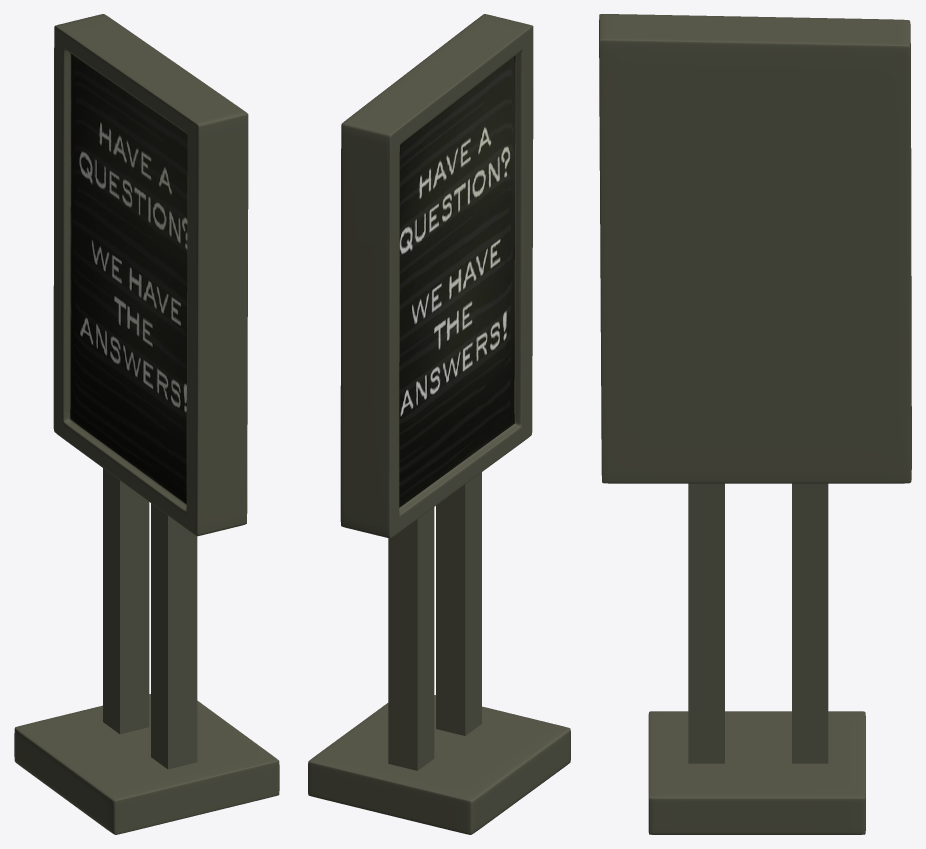
The model's file is librarys_answers_sign.glb.
3 renders of one model, left to right at view 1: azimuth 30°, elevation 25°; view 2: azimuth 150°, elevation 25°; view 3: azimuth 270°, elevation 25°, orthographic. The views are drawn at different scales.
Parts seen in each view (by area): view 1: Cube_5, Cube.003_8, Cube.002_7, Cube.001_6; view 2: Cube_5, Cube.003_8, Cube.001_6, Cube.002_7; view 3: Cube_5, Cube.003_8, Cube.002_7, Cube.001_6.
Part boxes in pixels (<box>): Cube_5: <box>53,14,248,536</box>; Cube.003_8: <box>14,694,279,834</box>; Cube.002_7: <box>151,503,197,769</box>; Cube.001_6: <box>103,468,149,734</box>; Cube_5: <box>340,14,533,538</box>; Cube.003_8: <box>308,695,570,834</box>; Cube.001_6: <box>388,507,434,770</box>; Cube.002_7: <box>436,472,481,735</box>; Cube_5: <box>599,14,911,483</box>; Cube.003_8: <box>648,711,865,834</box>; Cube.002_7: <box>688,483,724,763</box>; Cube.001_6: <box>792,483,828,763</box>.
Bounding box in the file's own units: 2.19 × 8.99 × 3.32.
2 materials, 1 textured.
